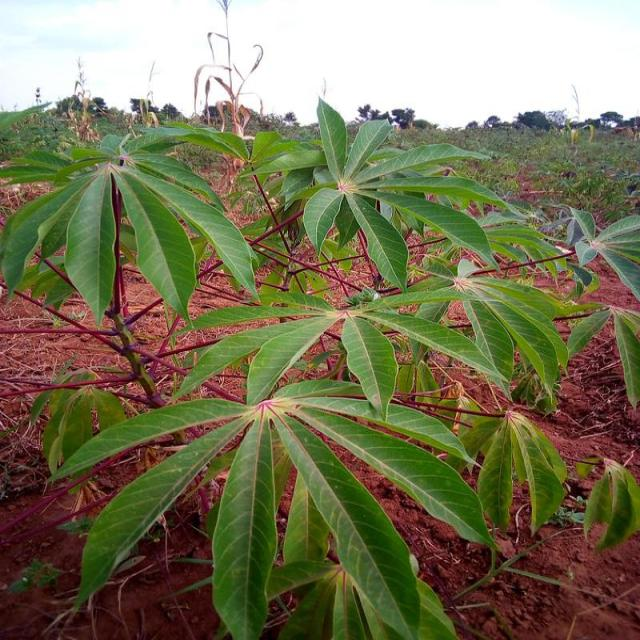cassava leaf: (2, 97, 635, 638)
